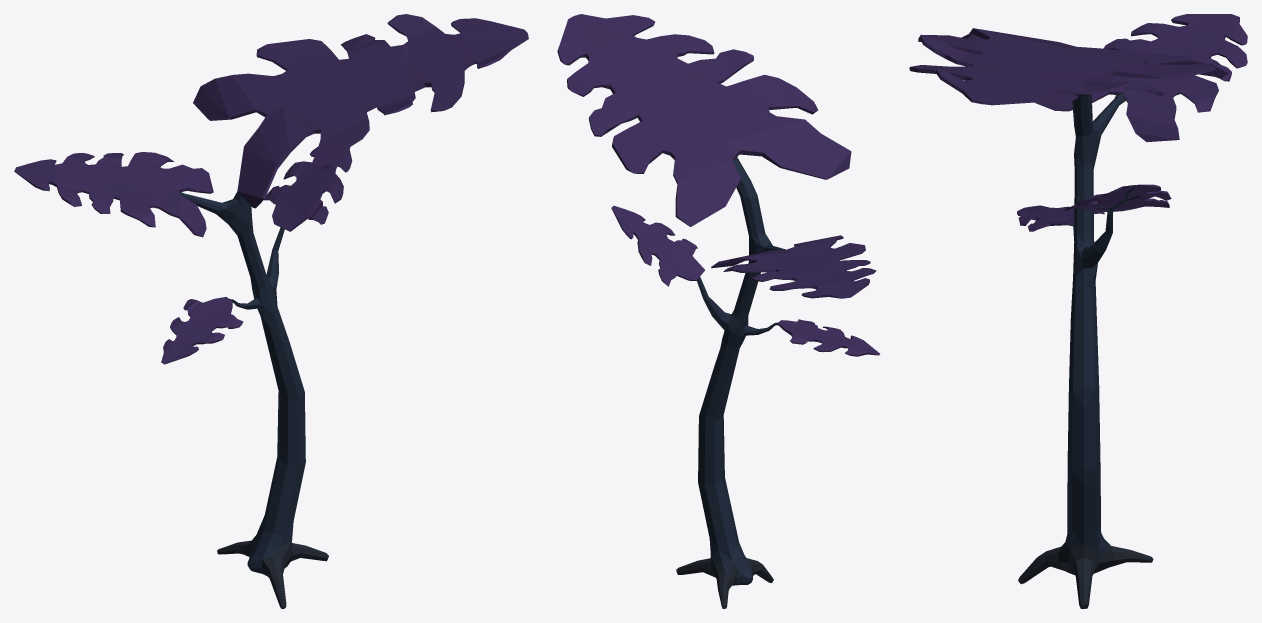
File: SM_Flora_07.glb
3 renders of one model, left to right at view 1: azimuth 30°, elevation 25°; view 2: azimuth 150°, elevation 25°; view 3: azimuth 270°, elevation 25°, orthographic. The views are drawn at different scales.
Parts seen in each view (by area): view 1: SM_Flora_07; view 2: SM_Flora_07; view 3: SM_Flora_07.
Boxes of the visible parts, x1,y1,x2,y2 form: SM_Flora_07: [14, 14, 528, 608]; SM_Flora_07: [557, 14, 879, 608]; SM_Flora_07: [909, 14, 1247, 608].
Bounding box in the file's own units: 5.03 × 6.32 × 3.19.
1 material, 1 textured.
